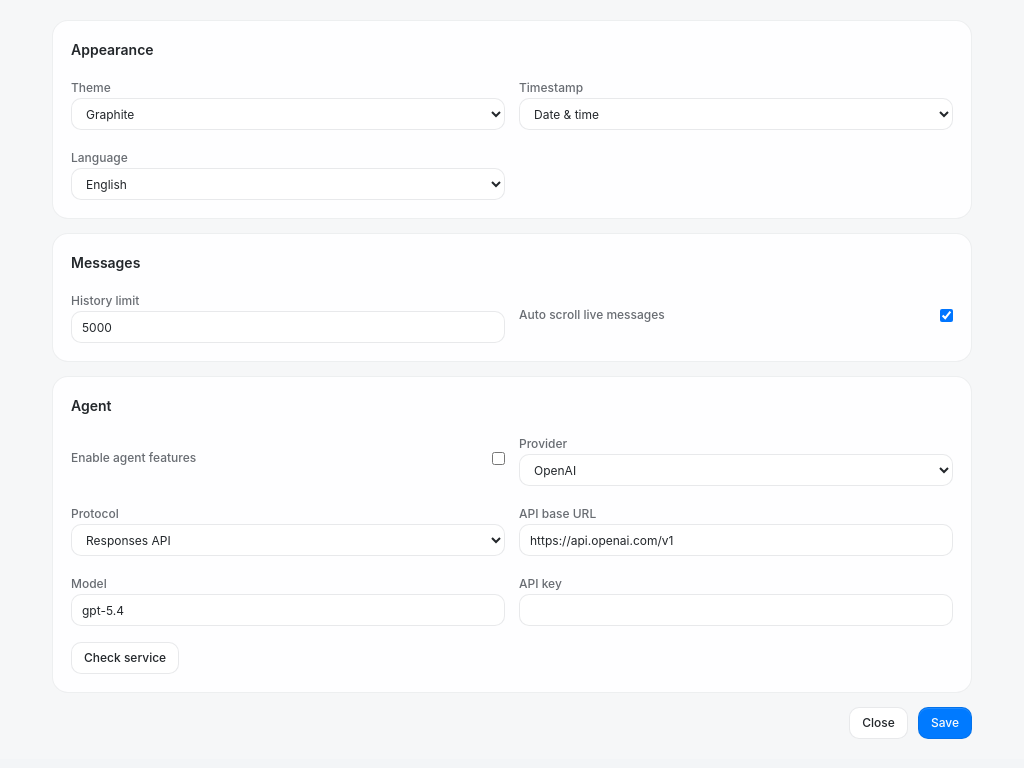
SettingsView › still saves locally when the local agent service is unavailable
Step 1. Click the button "Save" → (945, 723), box [918,707,972,739]
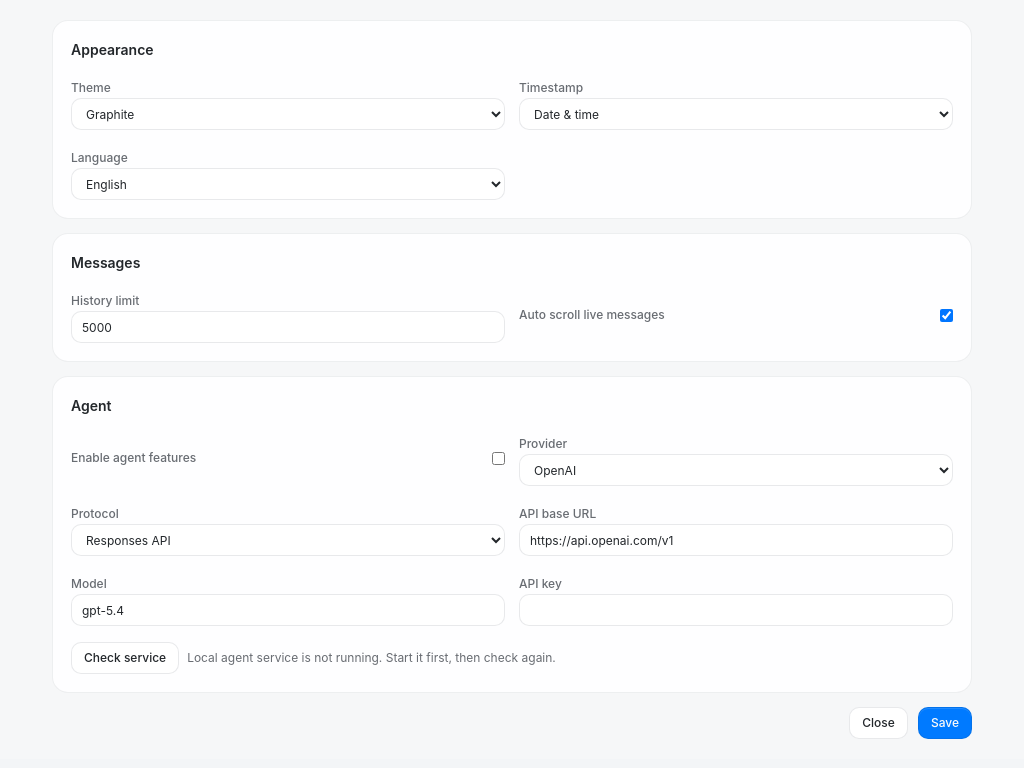
Now the text "Local agent service is not running. Start it first, then check again." is shown, box [187,650,556,666]
